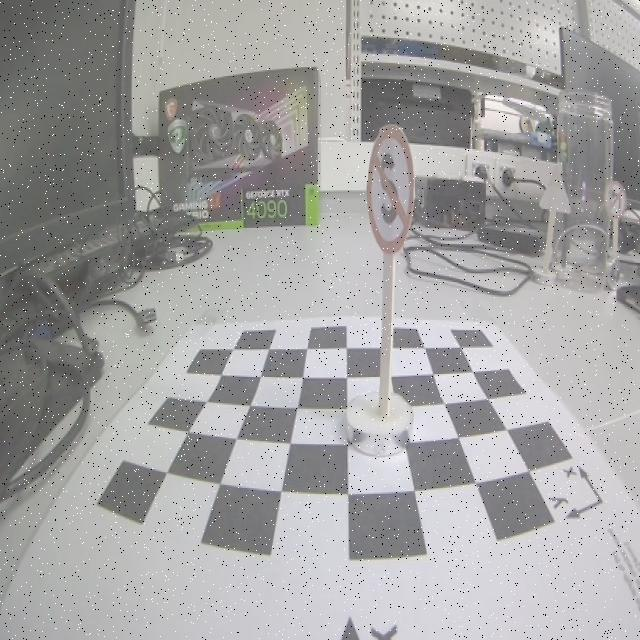Rambu Berhenti: (366, 124, 415, 254)
